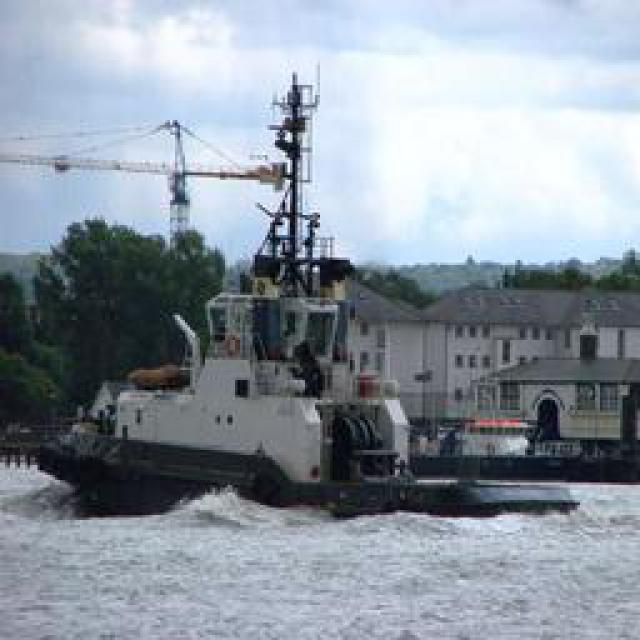Ship: (75, 61, 538, 511)
